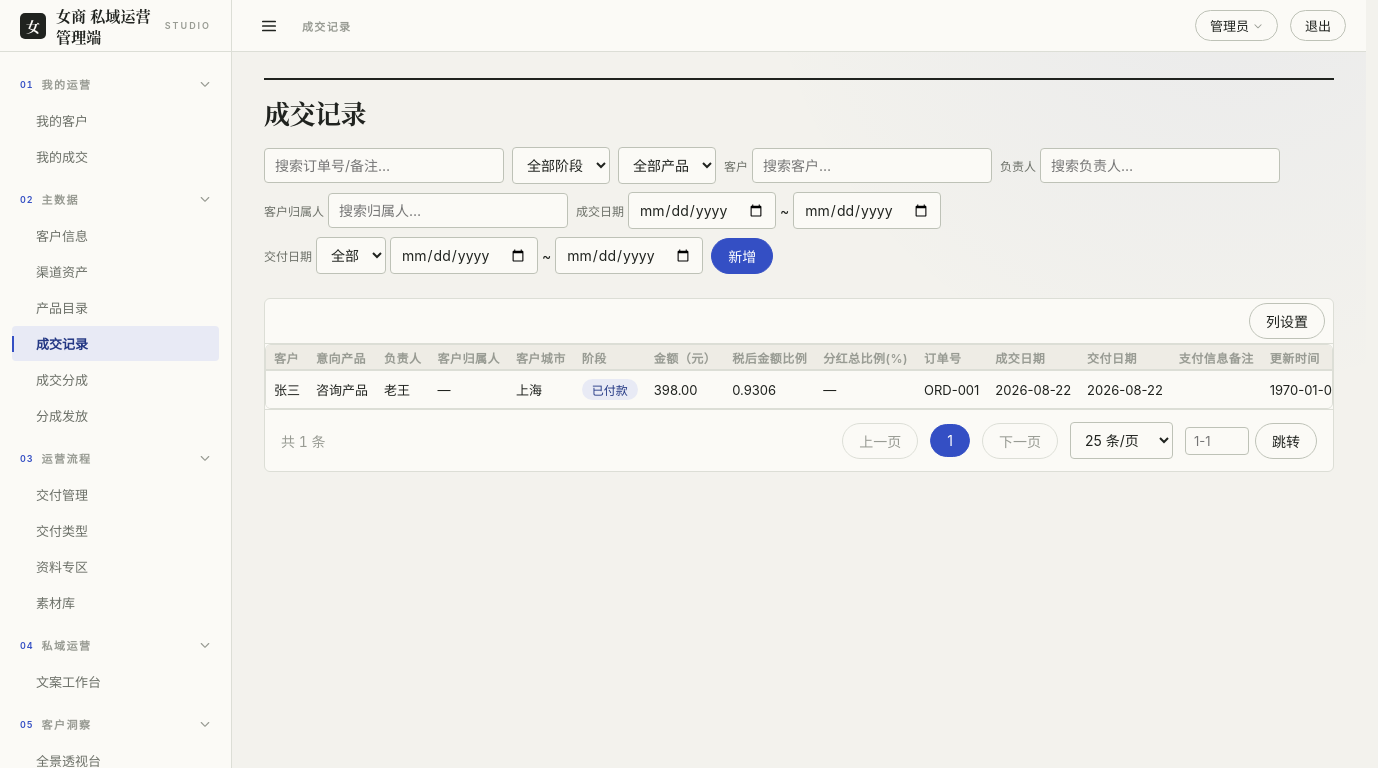
成交记录页 › 税后比例非法输入：toast 报错且不发 PATCH
Double-click the text "0.9306": (770, 389) x1=724 y1=370 x2=815 y2=408
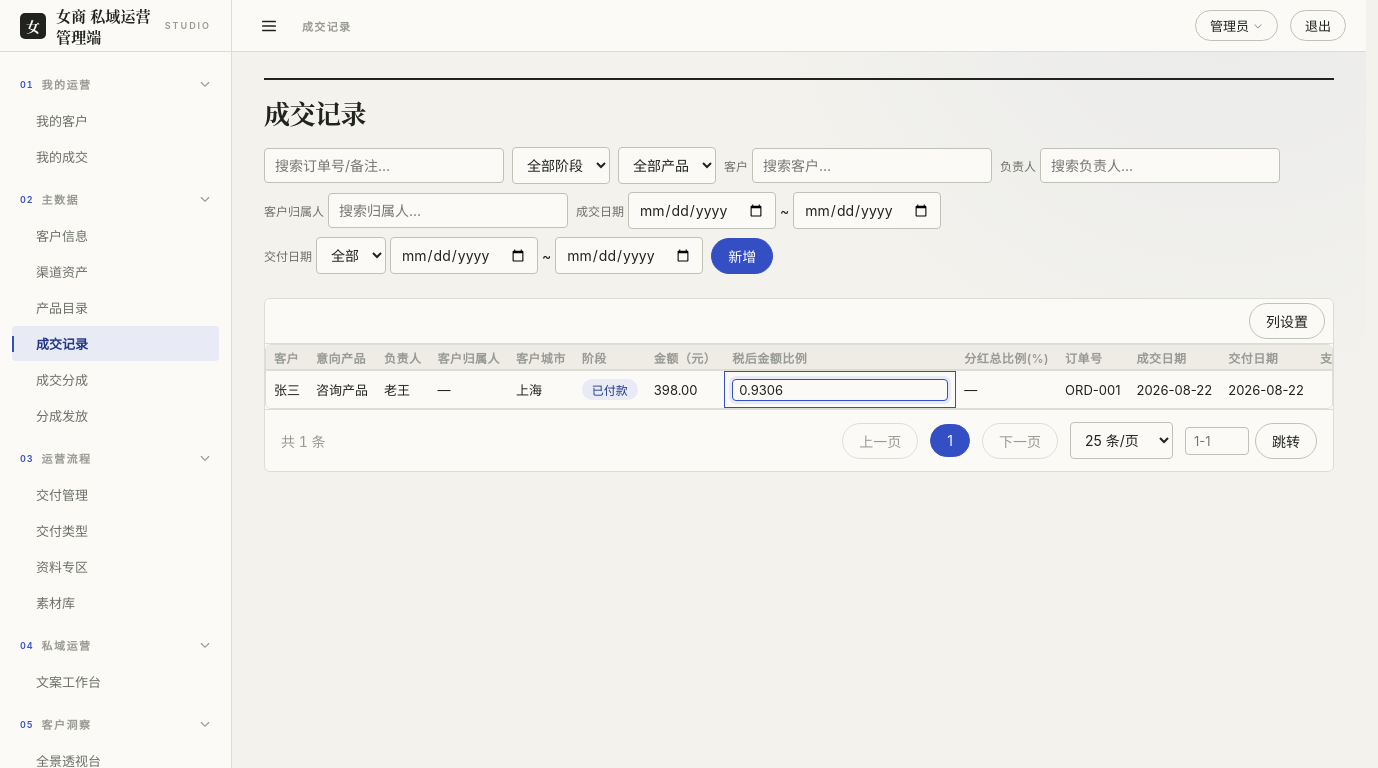
Replace the text in the field named "税后金额比例" with "abc": (840, 390) x1=732 y1=378 x2=948 y2=400
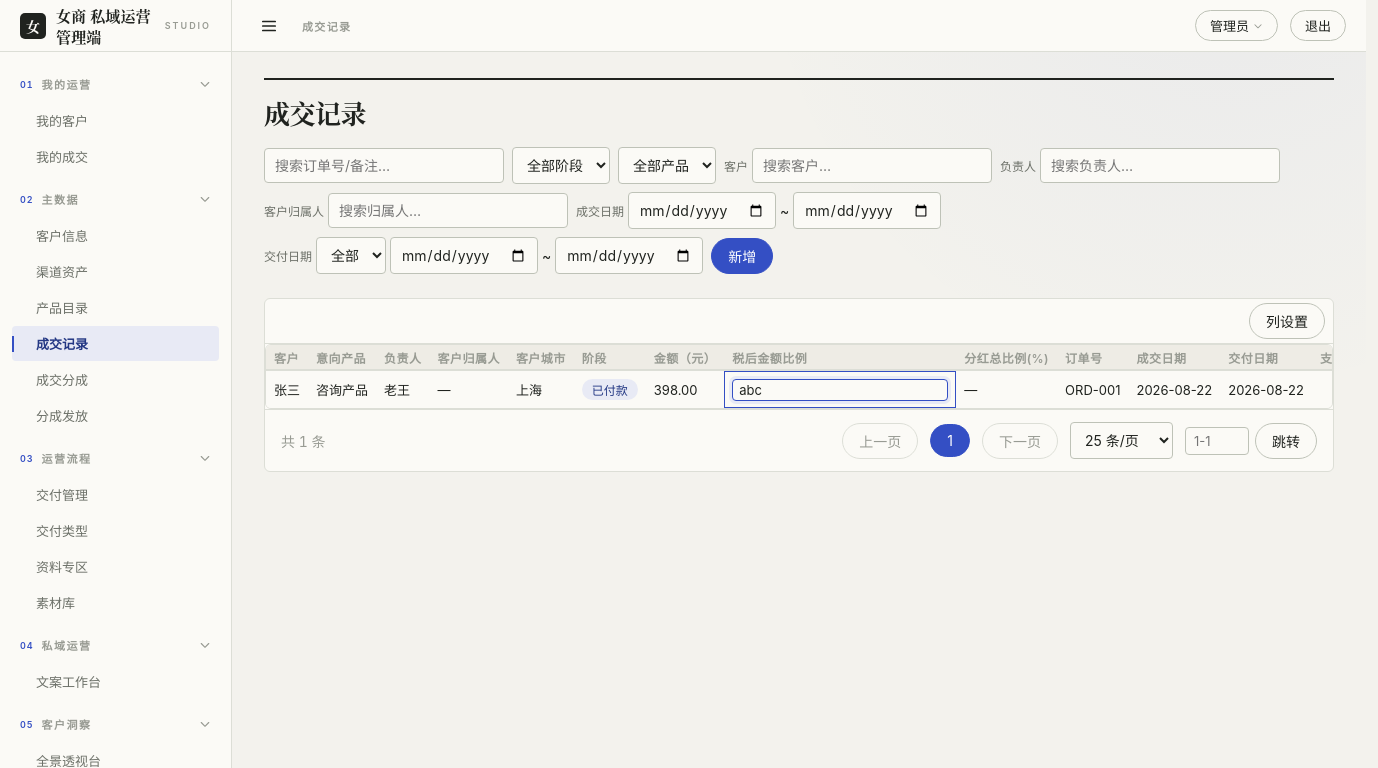
Press Tab in the field named "税后金额比例", box x1=732 y1=378 x2=948 y2=400
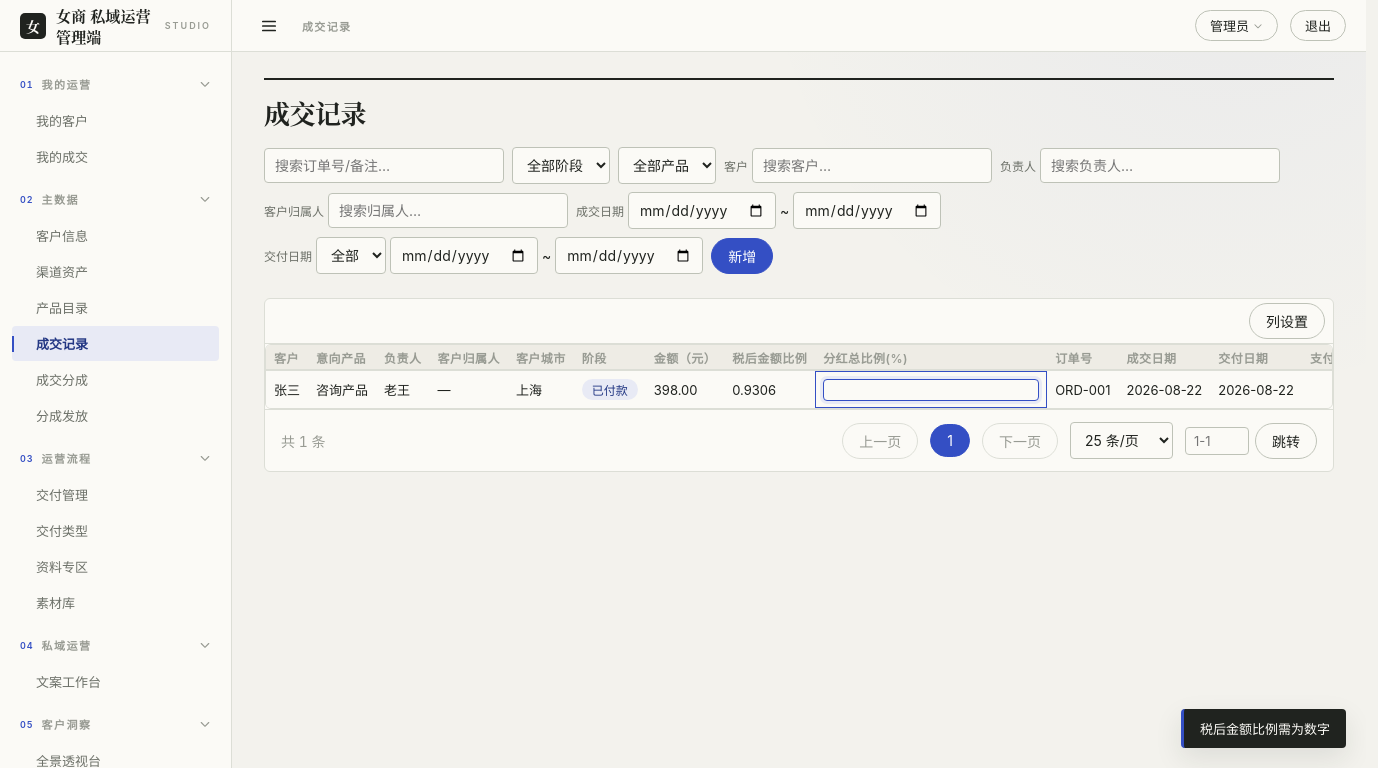
Expected: the text "税后金额比例需为数字" is shown, x1=1181 y1=709 x2=1346 y2=748
